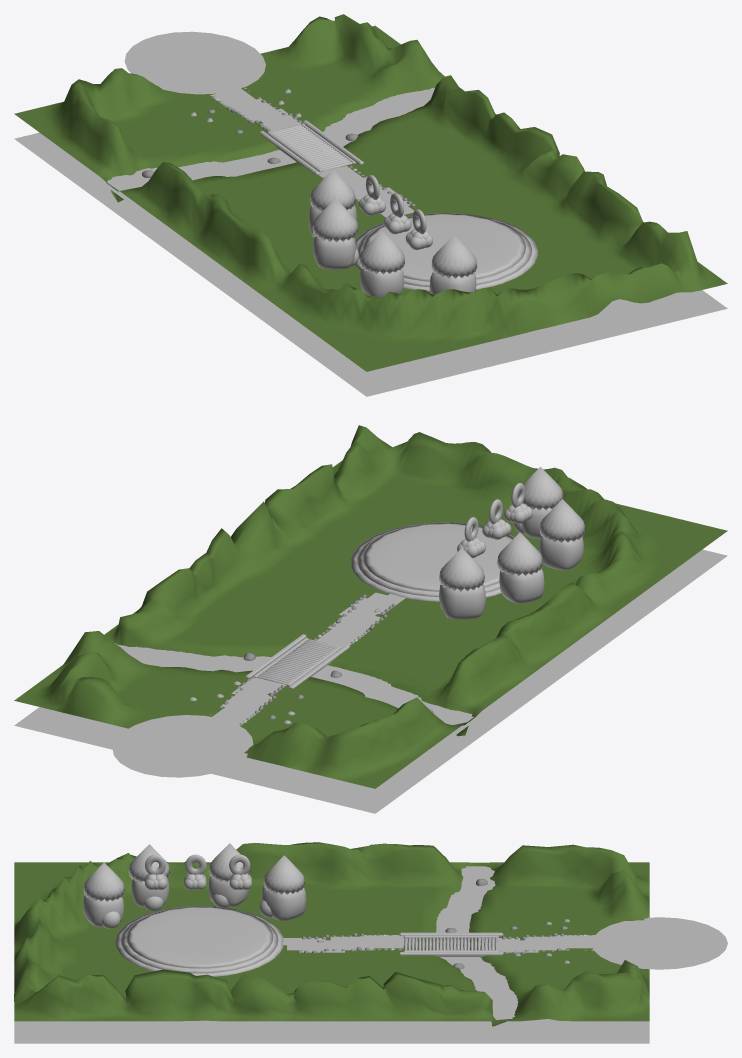
File: isla prueba 2.fbx
3 renders of one model, top to bottom at view 1: azimuth 30°, elevation 25°; view 2: azimuth 150°, elevation 25°; view 3: azimuth 270°, elevation 25°, orthographic. The views are drawn at different scales.
Visible parts, largest first — view 1: polySurface1253, polySurface2061, polySurface1250, polySurface1813, polySurface1254, polySurface1810, polySurface1309, polySurface1853, polySurface1960, polySurface1851, polySurface1959, polySurface2019 (+6 smaller); view 2: polySurface1253, polySurface2061, polySurface1250, polySurface1813, polySurface1254, polySurface1810, polySurface1309, polySurface1960, polySurface1853, polySurface2018, polySurface2019, polySurface1959 (+6 smaller); view 3: polySurface1253, polySurface2061, polySurface1813, polySurface1250, polySurface1254, polySurface1810, polySurface1452, polySurface1814, polySurface1309, polySurface1815, polySurface1851, polySurface2019 (+9 smaller).
Part boxes in pixels (bbox=[...]): polySurface1253: bbox=[14, 14, 727, 371]; polySurface2061: bbox=[14, 132, 727, 396]; polySurface1250: bbox=[124, 31, 265, 94]; polySurface1813: bbox=[362, 213, 525, 281]; polySurface1254: bbox=[84, 88, 434, 211]; polySurface1810: bbox=[210, 88, 414, 217]; polySurface1309: bbox=[268, 125, 356, 171]; polySurface1853: bbox=[359, 230, 404, 274]; polySurface1960: bbox=[312, 198, 358, 242]; polySurface1851: bbox=[431, 235, 477, 278]; polySurface1959: bbox=[312, 236, 356, 269]; polySurface2019: bbox=[310, 169, 355, 211]; polySurface1253: bbox=[14, 425, 727, 788]; polySurface2061: bbox=[14, 549, 727, 813]; polySurface1250: bbox=[112, 715, 253, 777]; polySurface1813: bbox=[362, 522, 512, 591]; polySurface1254: bbox=[115, 643, 504, 740]; polySurface1810: bbox=[212, 592, 405, 725]; polySurface1309: bbox=[253, 639, 341, 685]; polySurface1960: bbox=[497, 532, 542, 575]; polySurface1853: bbox=[539, 499, 585, 542]; polySurface2018: bbox=[439, 584, 485, 619]; polySurface2019: bbox=[439, 548, 484, 591]; polySurface1959: bbox=[499, 568, 544, 603]; polySurface1253: bbox=[14, 842, 649, 1026]; polySurface2061: bbox=[14, 1019, 649, 1043]; polySurface1813: bbox=[126, 906, 273, 968]; polySurface1250: bbox=[591, 917, 727, 969]; polySurface1254: bbox=[436, 866, 518, 1019]; polySurface1810: bbox=[282, 935, 594, 952]; polySurface1452: bbox=[399, 932, 503, 956]; polySurface1814: bbox=[120, 913, 278, 973]; polySurface1309: bbox=[404, 936, 497, 950]; polySurface1815: bbox=[115, 906, 283, 976]; polySurface1851: bbox=[83, 862, 124, 901]; polySurface2019: bbox=[263, 855, 304, 894].
Bounding box in the file's own units: 108 × 28.17 × 204.
